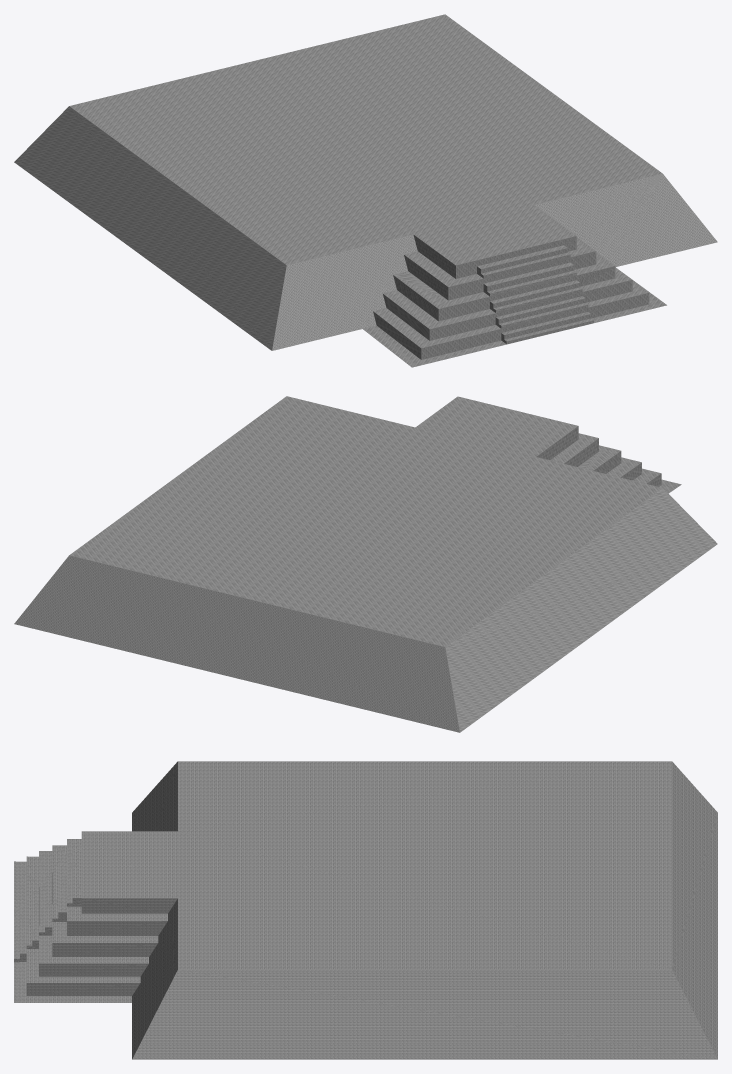
The model's file is Piramide_de_la_lunaBase.fbx.
The picture shows the model from 3 angles, top to bottom: view 1: azimuth 30°, elevation 25°; view 2: azimuth 150°, elevation 25°; view 3: azimuth 270°, elevation 25°; orthographic projection. The views are drawn at different scales.
Parts seen in each view (by area): view 1: Model; view 2: Model; view 3: Model.
Part boxes in pixels (bbox=[...]): Model: bbox=[14, 14, 717, 367]; Model: bbox=[14, 396, 717, 732]; Model: bbox=[14, 761, 717, 1059].
Bounding box in the file's own units: 6 × 0.8024 × 7.22.
